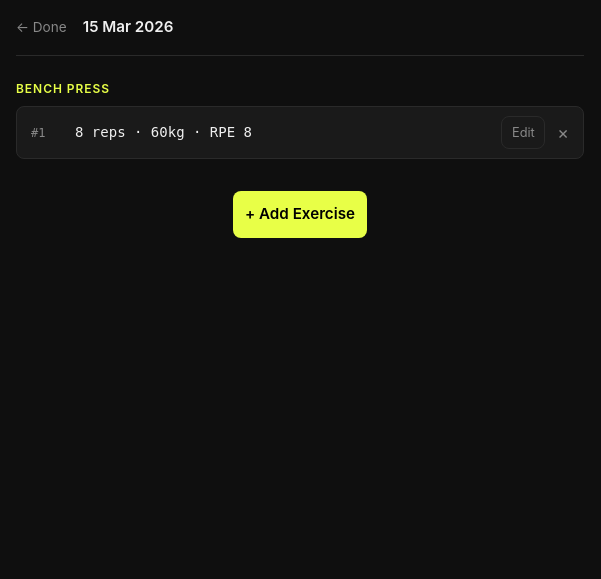
Test: LogSession — editing a set › pre-fills the form from the set and PATCHes the changed values
Step 1. Click the button "Edit" → (523,133), box [501,116,545,149]
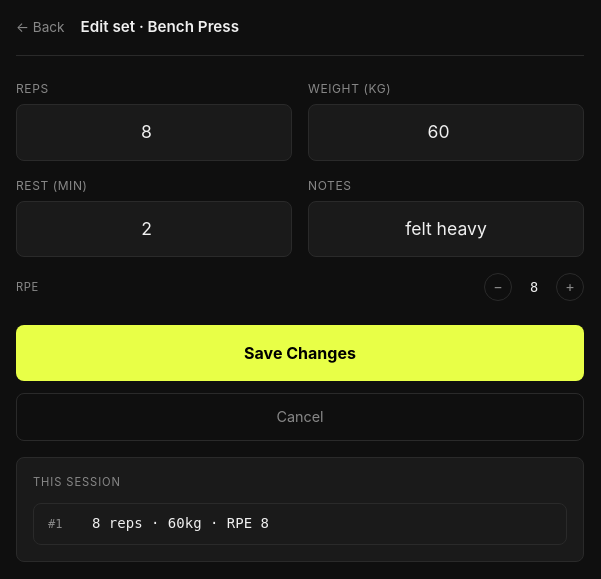
Expected: the text "Edit set · Bench Press" is shown, [81,16,239,39]
Expected: the 1st number field holds "8", [16,104,292,161]
Expected: the number field below "Weight (kg)" holds "60"
Step 2. Replace the text in the number field below "Weight (kg)" with "62.5" → (446,132), box [308,104,584,161]
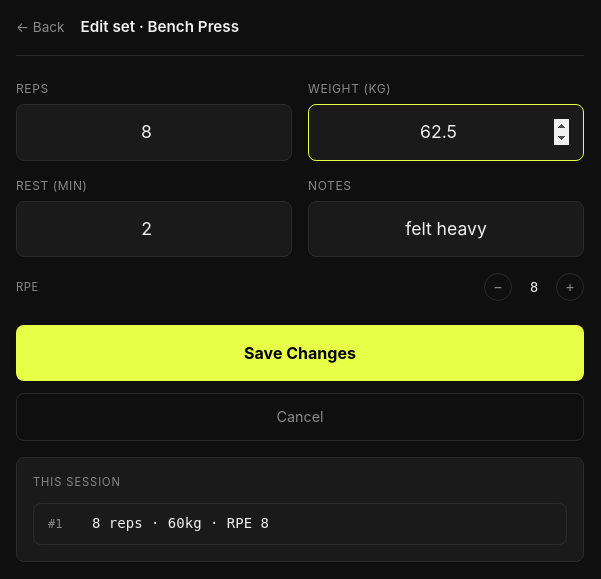
Step 3. Click the button "Save Changes" → (300,353), box [16,325,584,381]
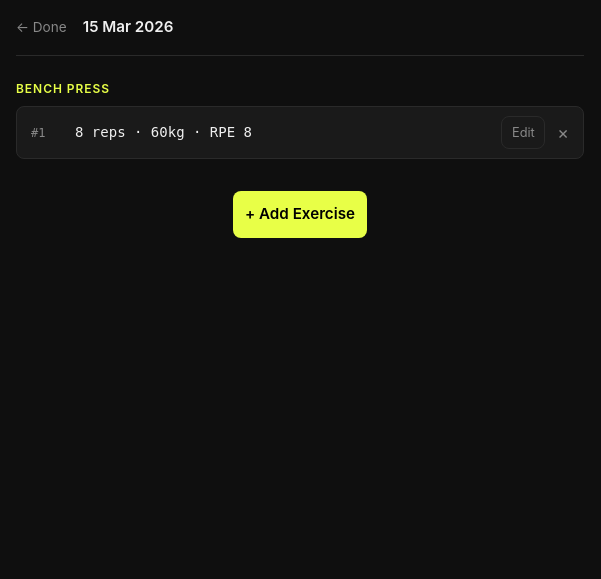
Expected: the button "+ Add Exercise" is shown, [233,191,367,238]
